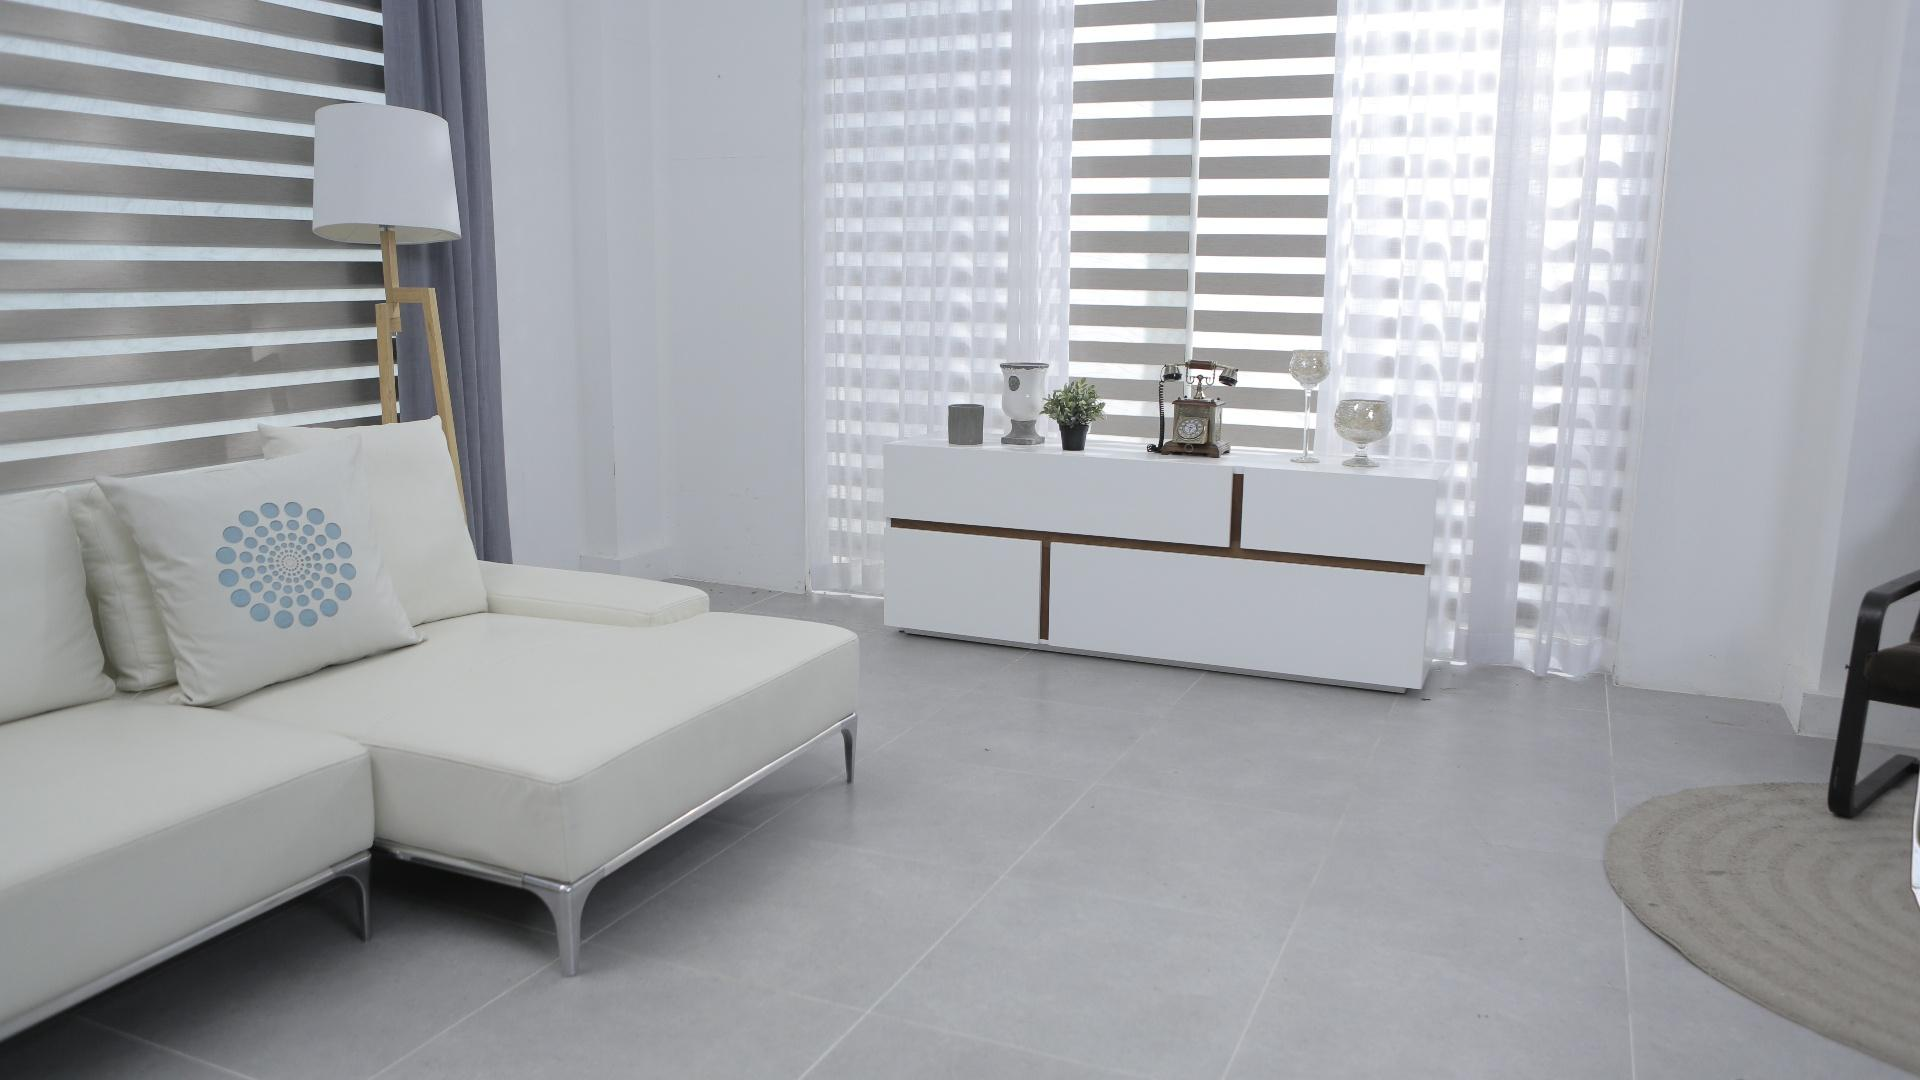shoes: (1907, 617, 1920, 996)
